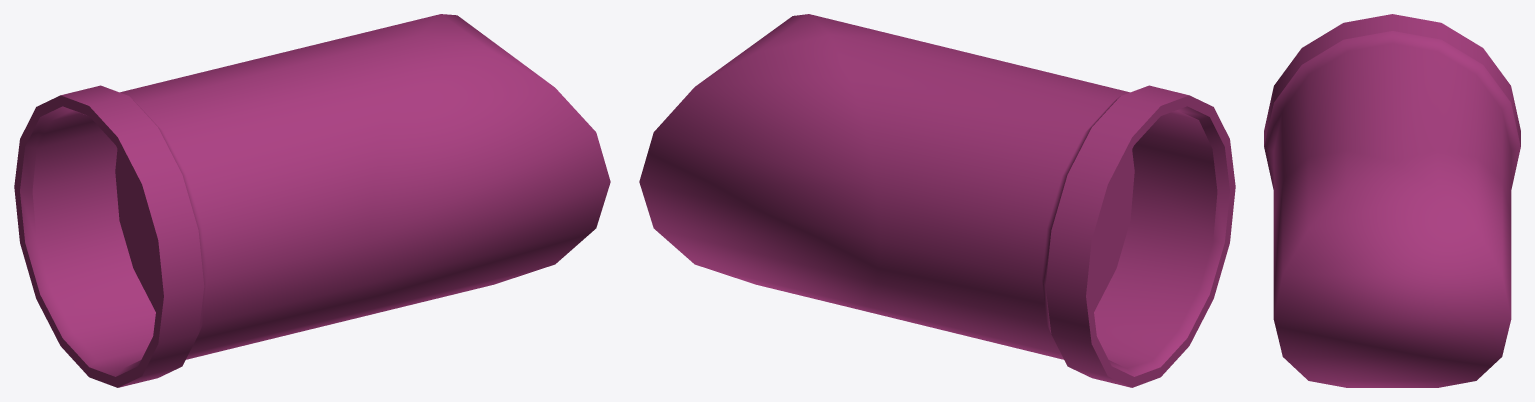
The model's file is Pipe_1_Junction.fbx.
The picture shows the model from 3 angles, left to right: view 1: azimuth 30°, elevation 25°; view 2: azimuth 150°, elevation 25°; view 3: azimuth 270°, elevation 25°; orthographic projection. The views are drawn at different scales.
Parts seen in each view (by area): view 1: Pipe_1_Junction; view 2: Pipe_1_Junction; view 3: Pipe_1_Junction.
Part boxes in pixels (box(x1,y1,x2,y2)): Pipe_1_Junction: box(14, 14, 610, 387); Pipe_1_Junction: box(639, 14, 1235, 387); Pipe_1_Junction: box(1264, 14, 1520, 387).
Bounding box in the file's own units: 9.64 × 5.52 × 5.52.
